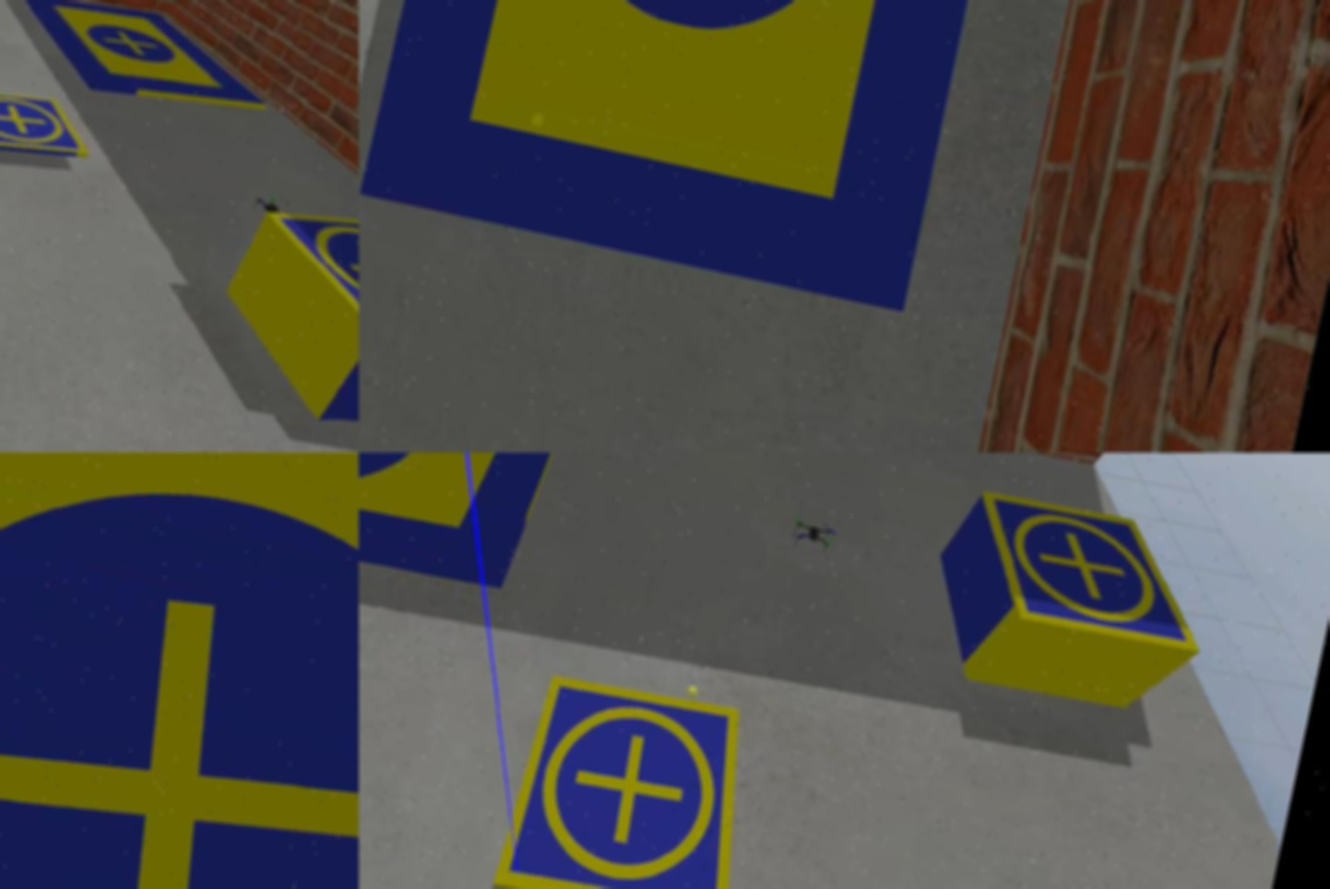large_base: (359, 1, 1003, 317), (1, 454, 359, 889), (2, 1, 283, 125)
small_base: (493, 668, 774, 889), (954, 484, 1229, 659), (243, 195, 359, 367), (1, 83, 103, 177)
